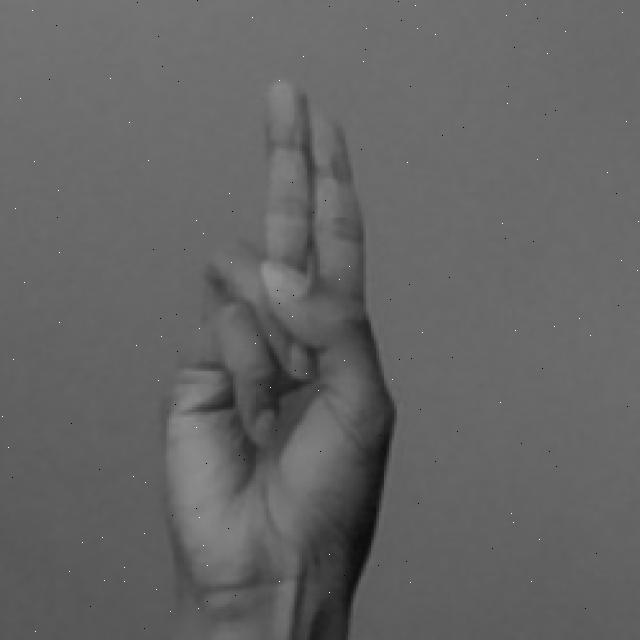U: (156, 74, 405, 640)
